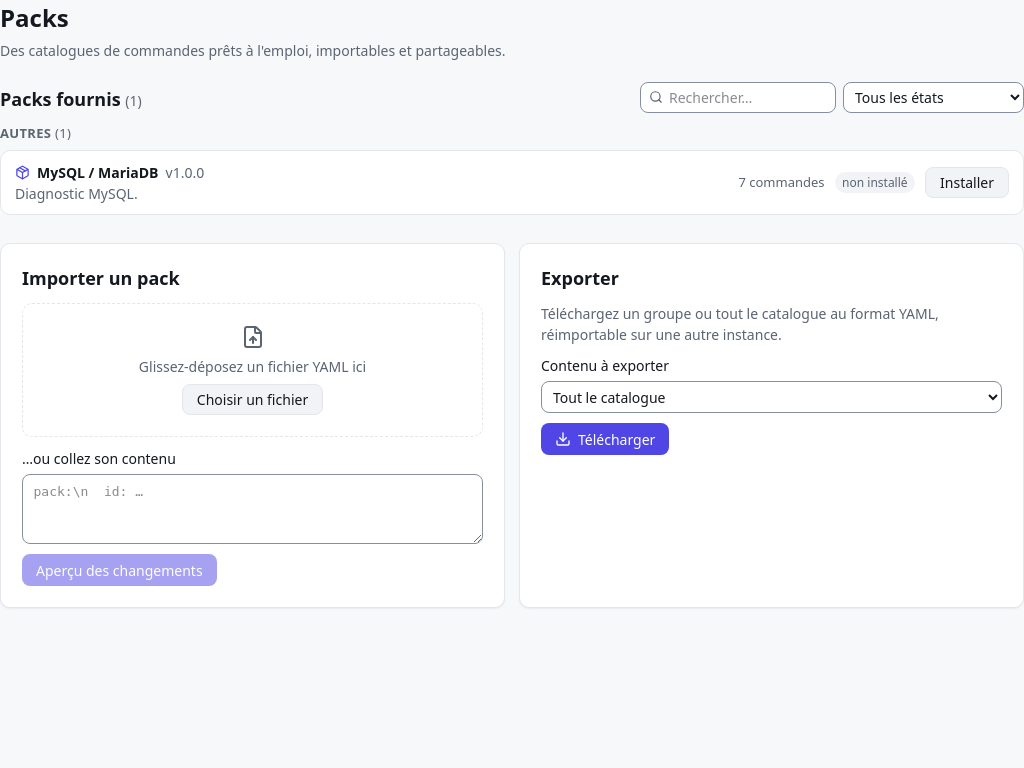
Test: packs › bloque l'import si une commande est invalide
Click the text box labelled "…ou collez son contenu" at point(252, 509), box [22,474,483,544]
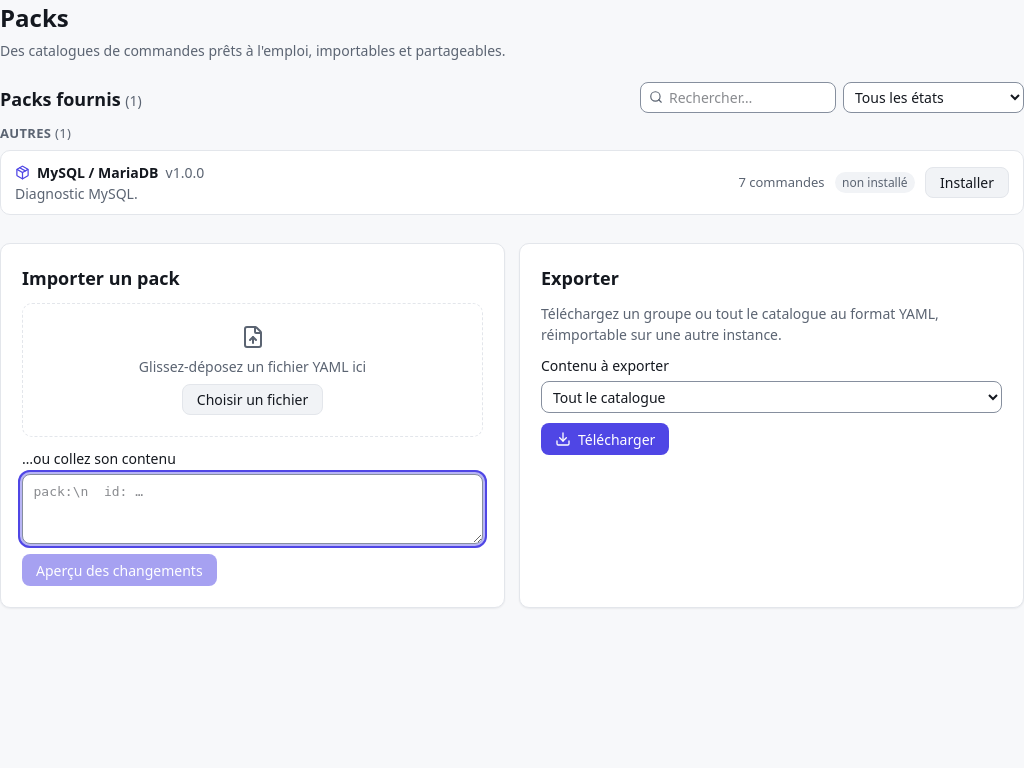
Type keys "x"
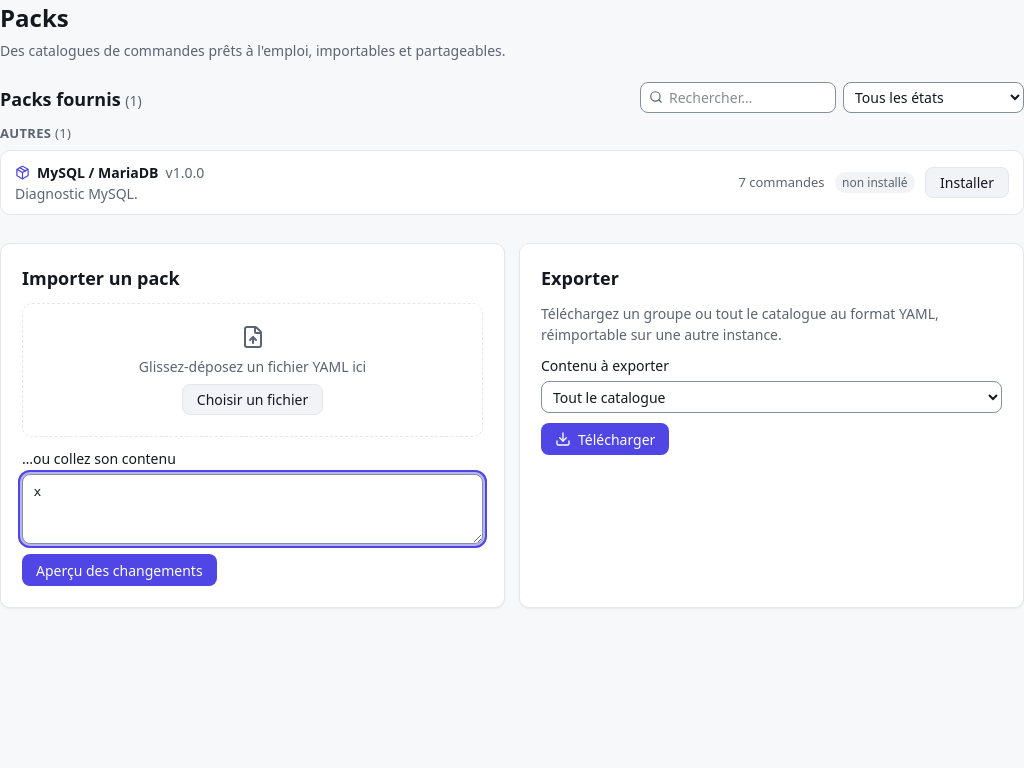
Click the button "Aperçu des changements" at point(119, 570), box [22,554,217,586]
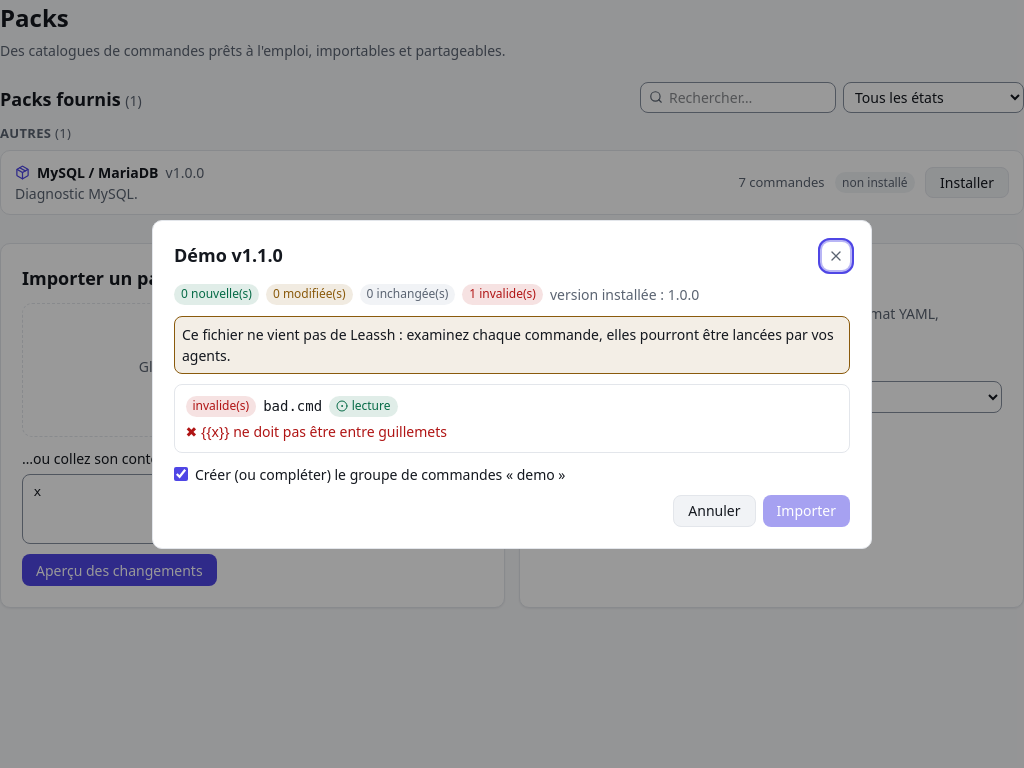
Check: the message shows "entre guillemets", box [201,422,447,440]
Check: the button "Importer" is disabled, box [763,495,850,526]
